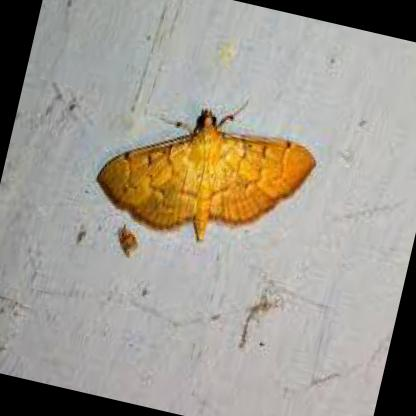Leaf Webber: (92, 105, 319, 249)
